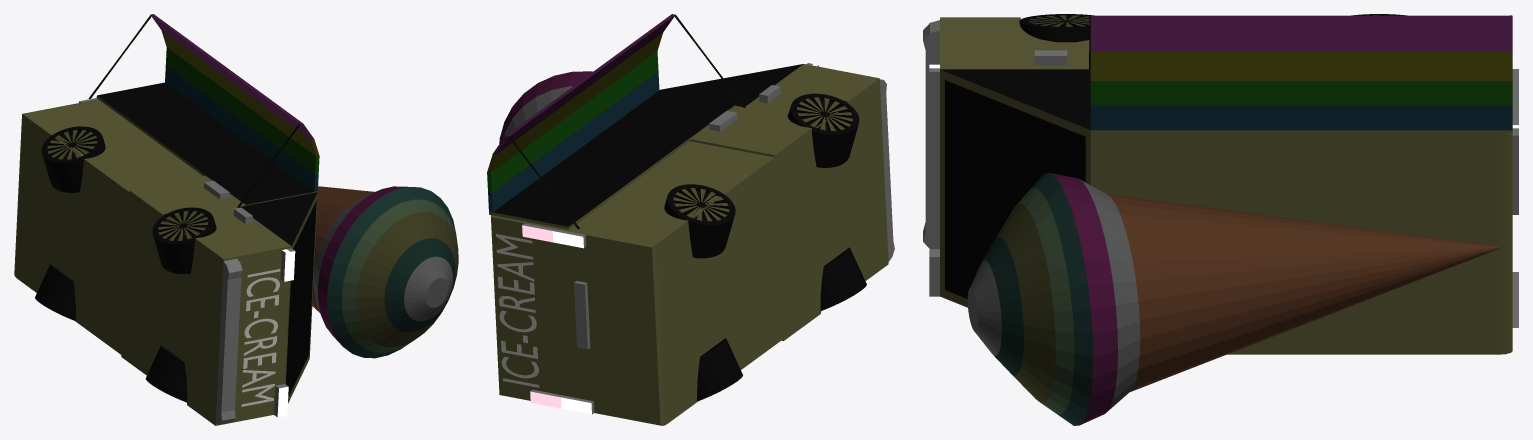
Rendered from ICE-CREAM TRUCK Knocked over.glb.
3 views of the same model, side by side, from view 1: azimuth 30°, elevation 25°; view 2: azimuth 150°, elevation 25°; view 3: azimuth 270°, elevation 25° (orthographic). The views are drawn at different scales.
Parts seen in each view (by area): view 1: wheel.003; view 2: wheel.003; view 3: wheel.003.
Part boxes in pixels (x1,y1,x2,y2): wheel.003: (14,14,458,425); wheel.003: (487,14,894,425); wheel.003: (923,14,1518,425).
Size of the model in its own units: 9.26 by 6.82 by 10.72.
Materials: 22 (1 with a texture image).
